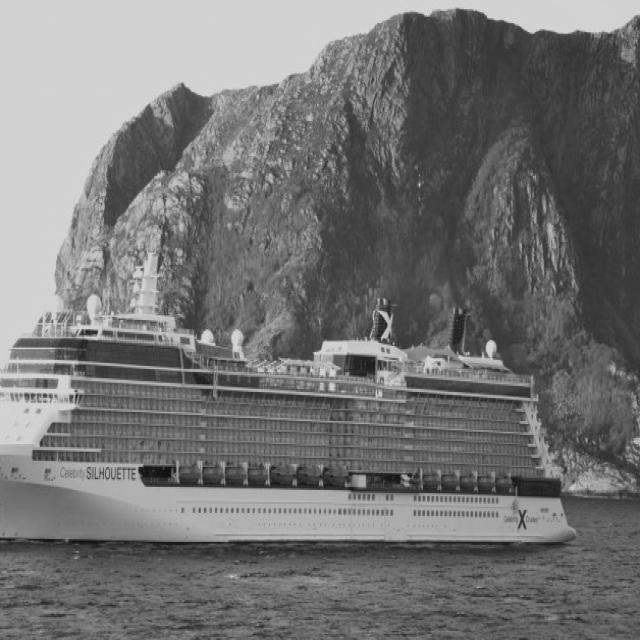cruises: (1, 251, 580, 559)
